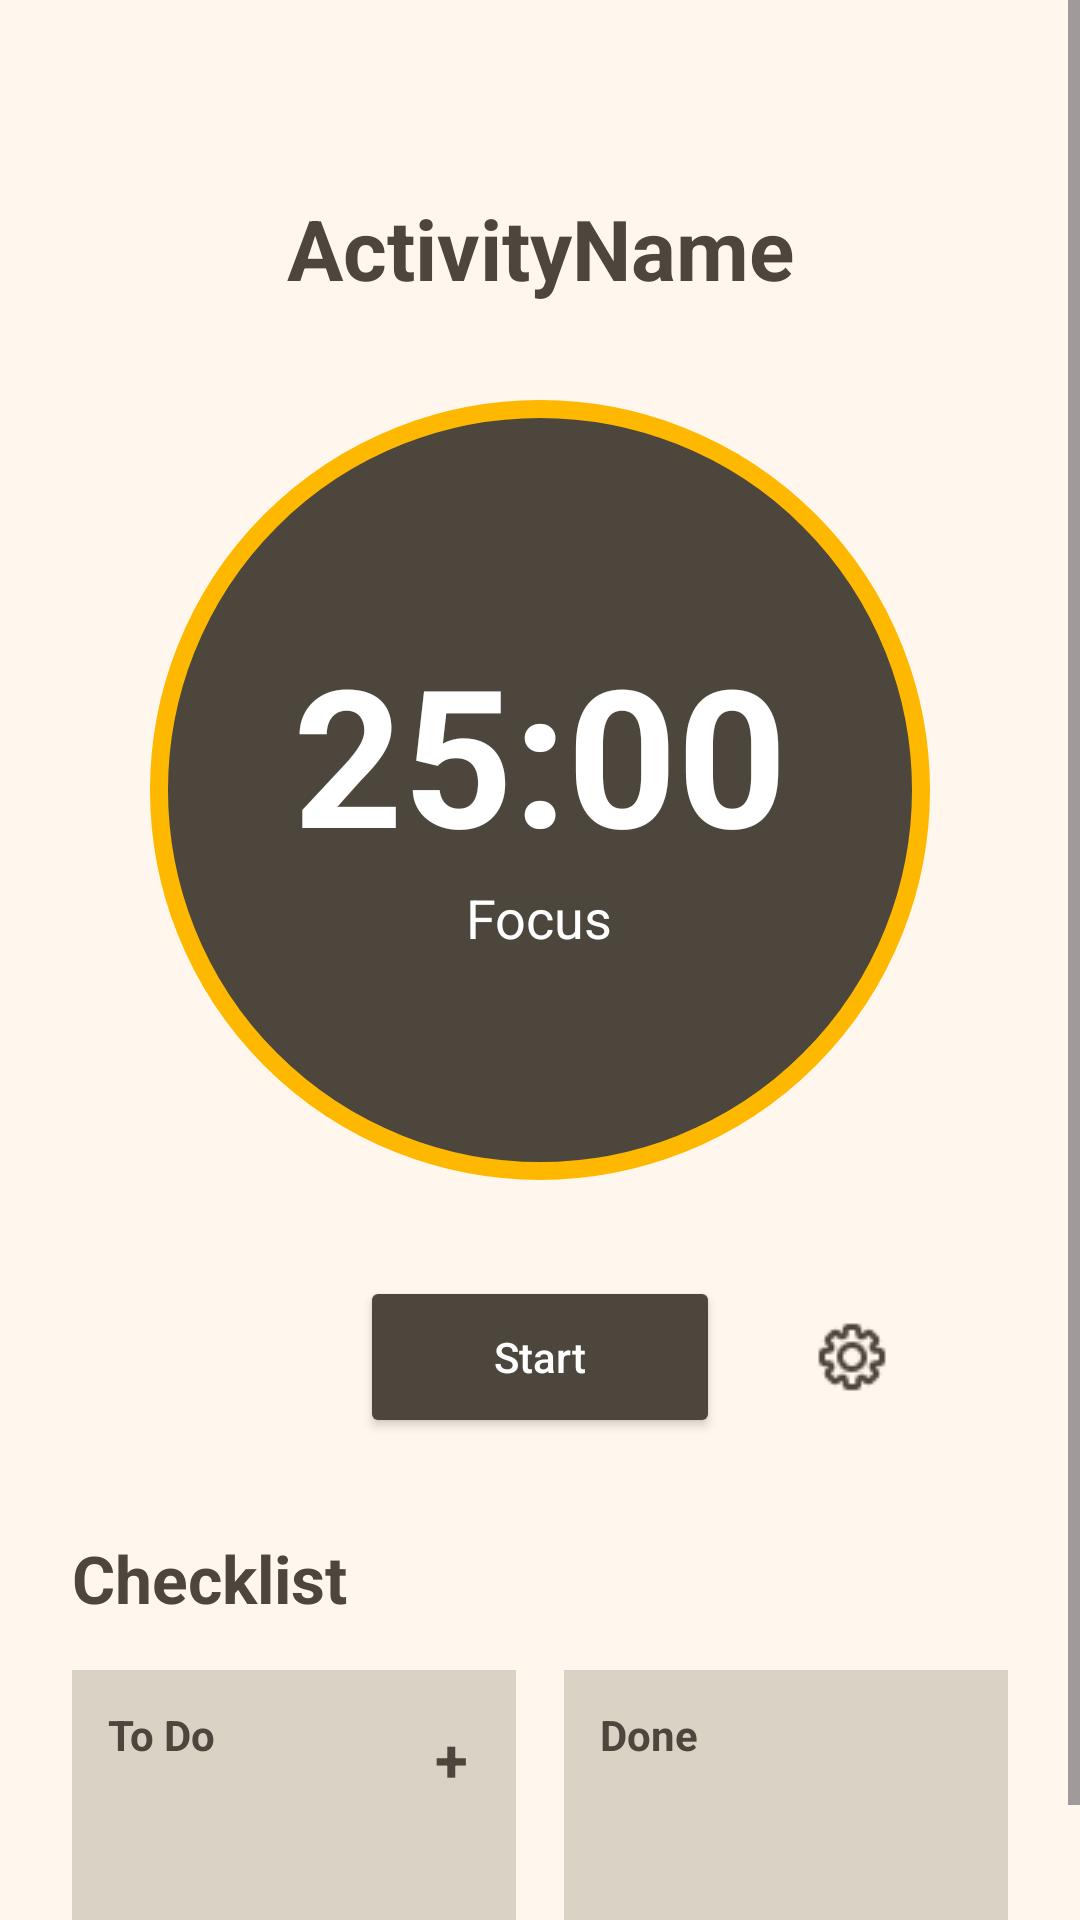

Icons on this 1080px x 1920px Android screen, each with the point to tap as (x=x, y=y):
pomodorosetting: (x=852, y=1357)
